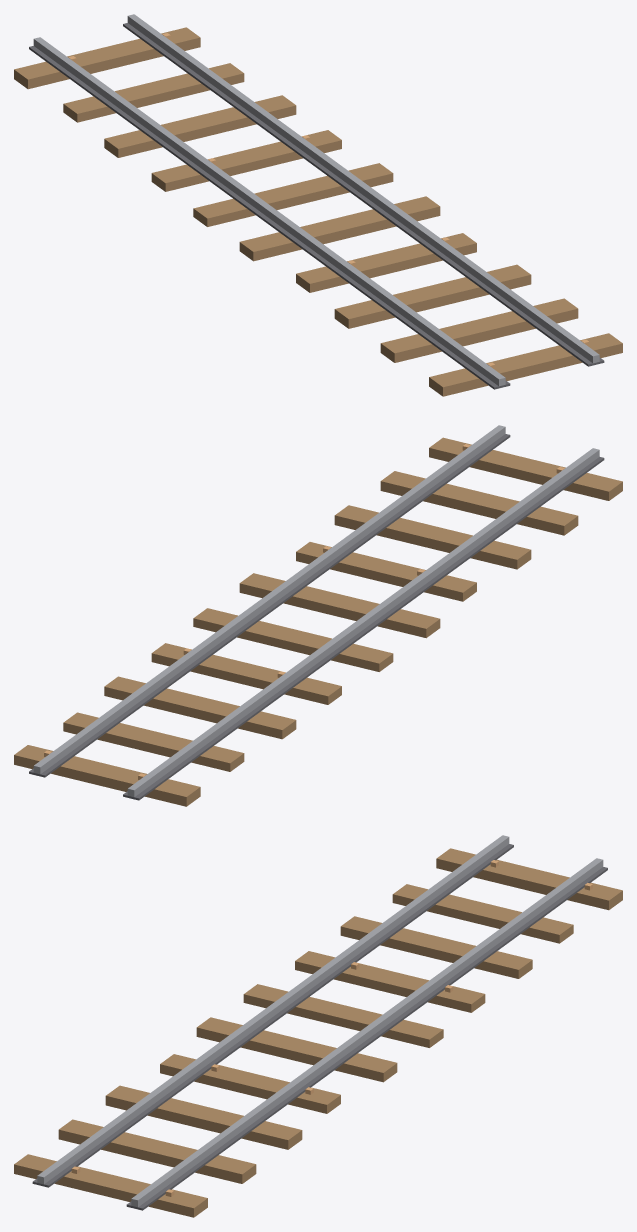
The model's file is lobby_rails.glb.
3 renders of one model, top to bottom at view 1: azimuth 30°, elevation 25°; view 2: azimuth 150°, elevation 25°; view 3: azimuth 330°, elevation 25°, orthographic.
Visible parts, largest first — view 1: LobbyRails; view 2: LobbyRails; view 3: LobbyRails.
Part boxes in pixels (x1,y1,x2,y2): LobbyRails: (14,14,622,396); LobbyRails: (14,425,622,806); LobbyRails: (14,835,622,1217).
Bounding box in the file's own units: 1.39 × 0.14 × 6.
